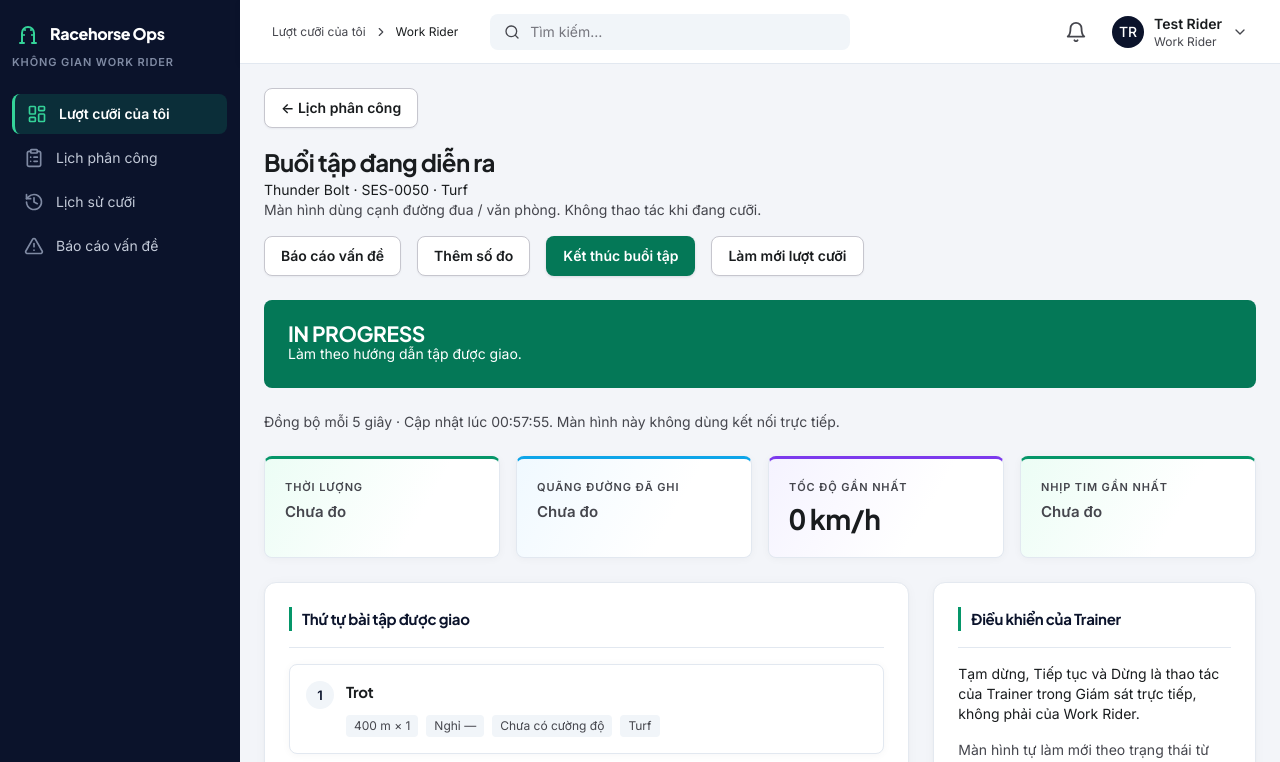
Test: records explicit issue enum/severity/description then refreshes the server interruption
Click the button "Báo cáo vấn đề" at [333, 256], box [264, 236, 401, 276]
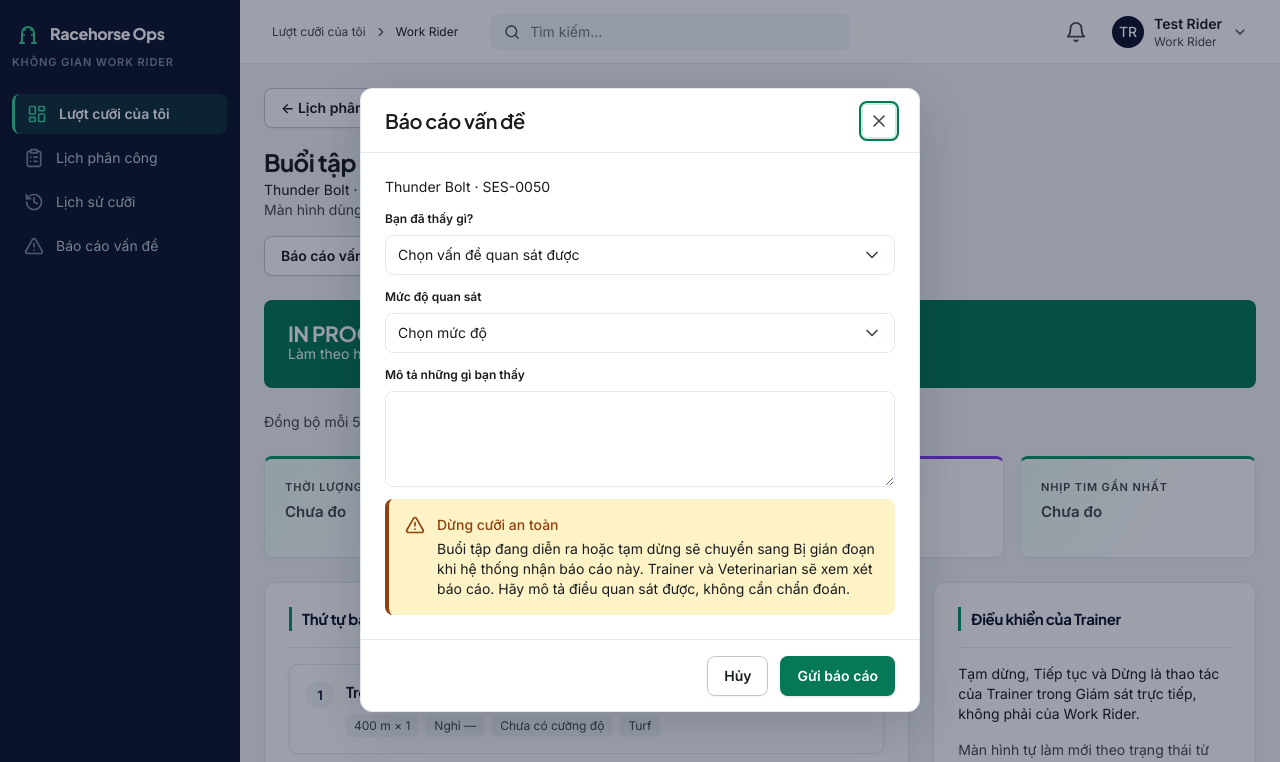
Select "Vấn đề móng hoặc chân" in the dropdown labelled "Bạn đã thấy gì?" at [640, 255], box [386, 236, 894, 274]
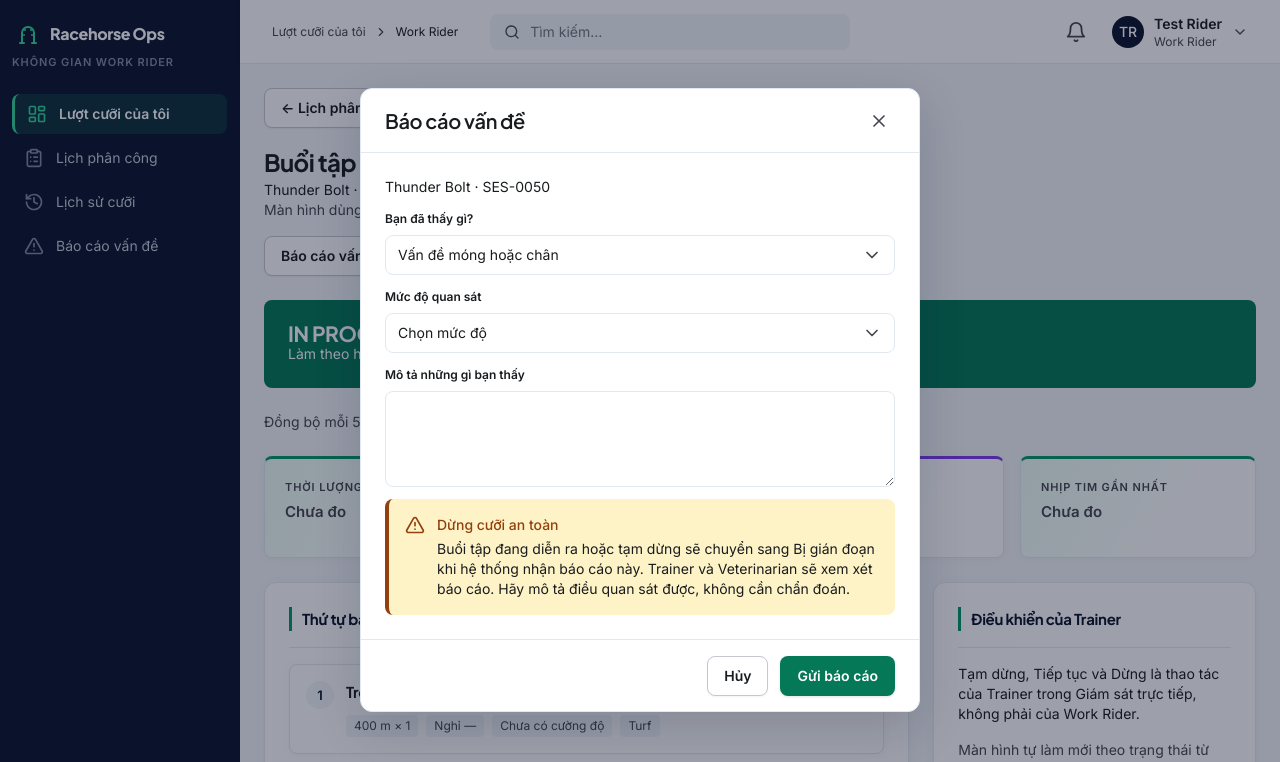
Select "Cao" in the dropdown labelled "Mức độ quan sát" at [640, 333], box [386, 314, 894, 352]
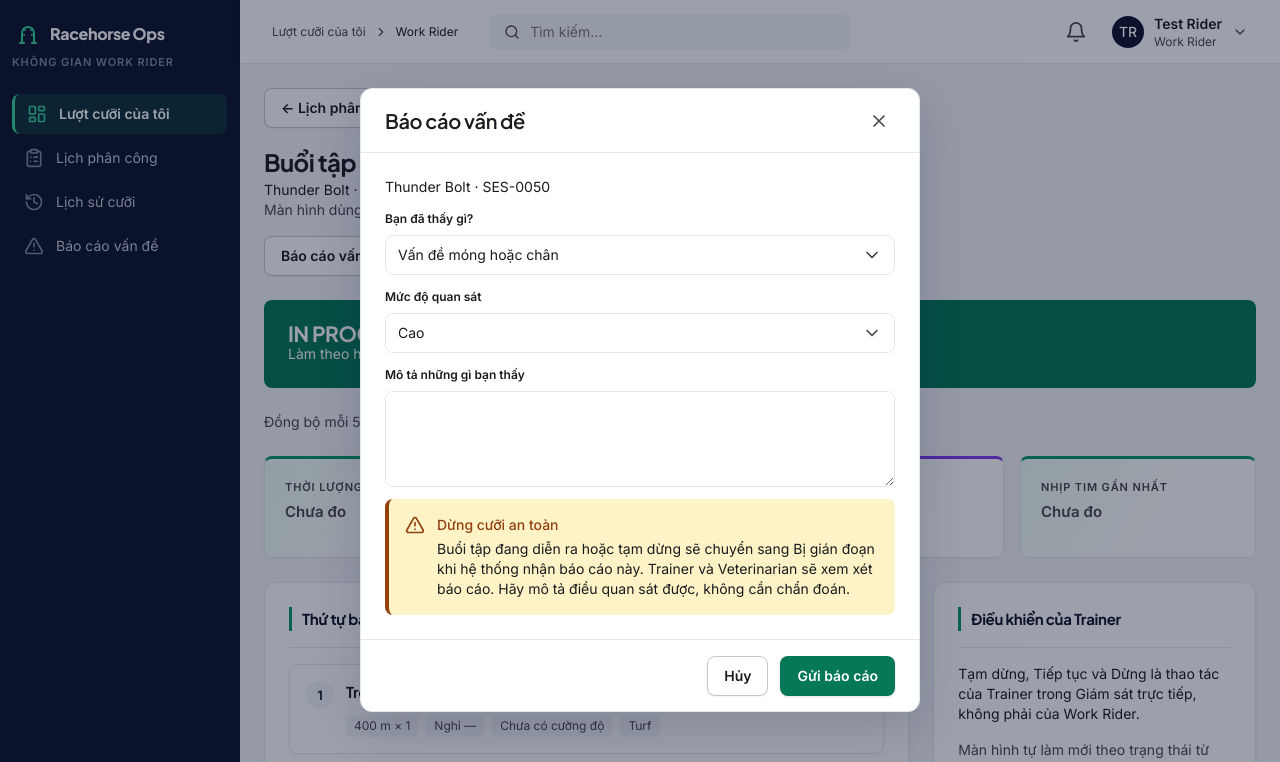
Type "Uneven gait on the left hind" into the text box labelled "Mô tả những gì bạn thấy" at [640, 439], box [385, 391, 895, 487]
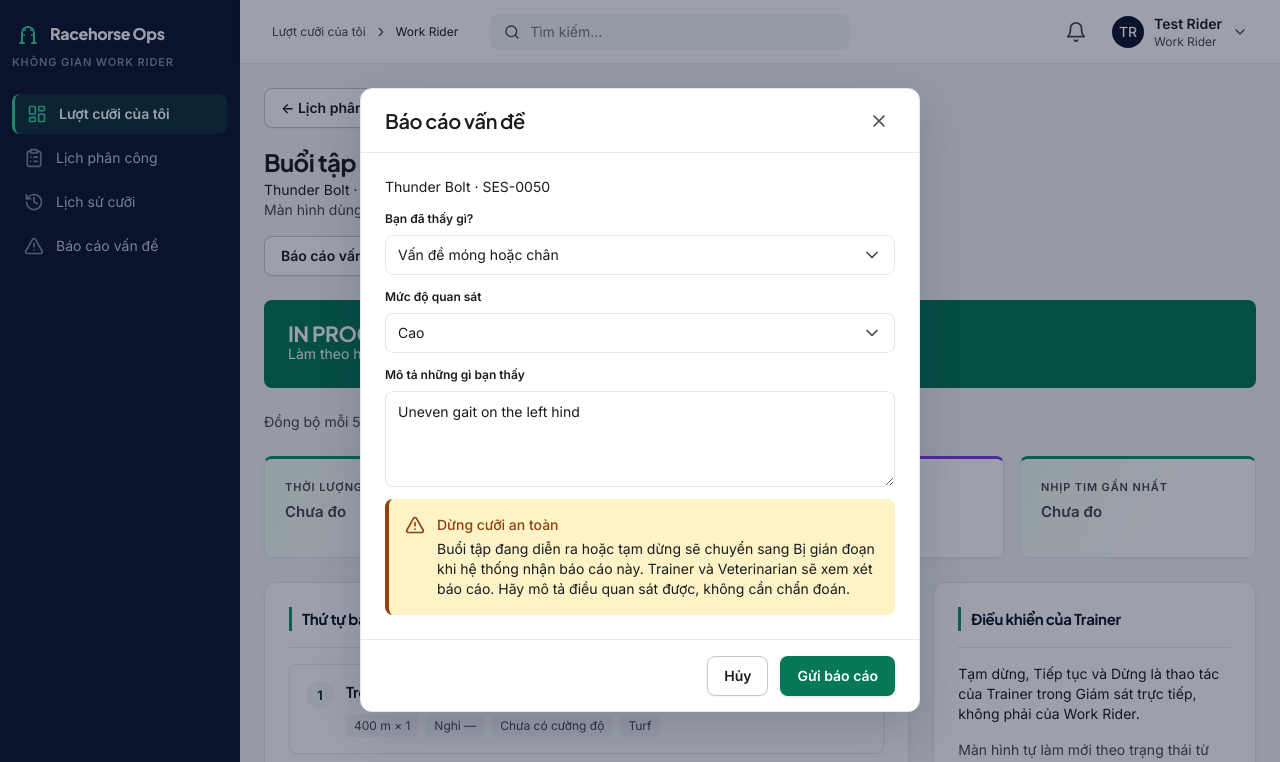
Click the button "Gửi báo cáo" at [838, 676], box [780, 656, 895, 696]
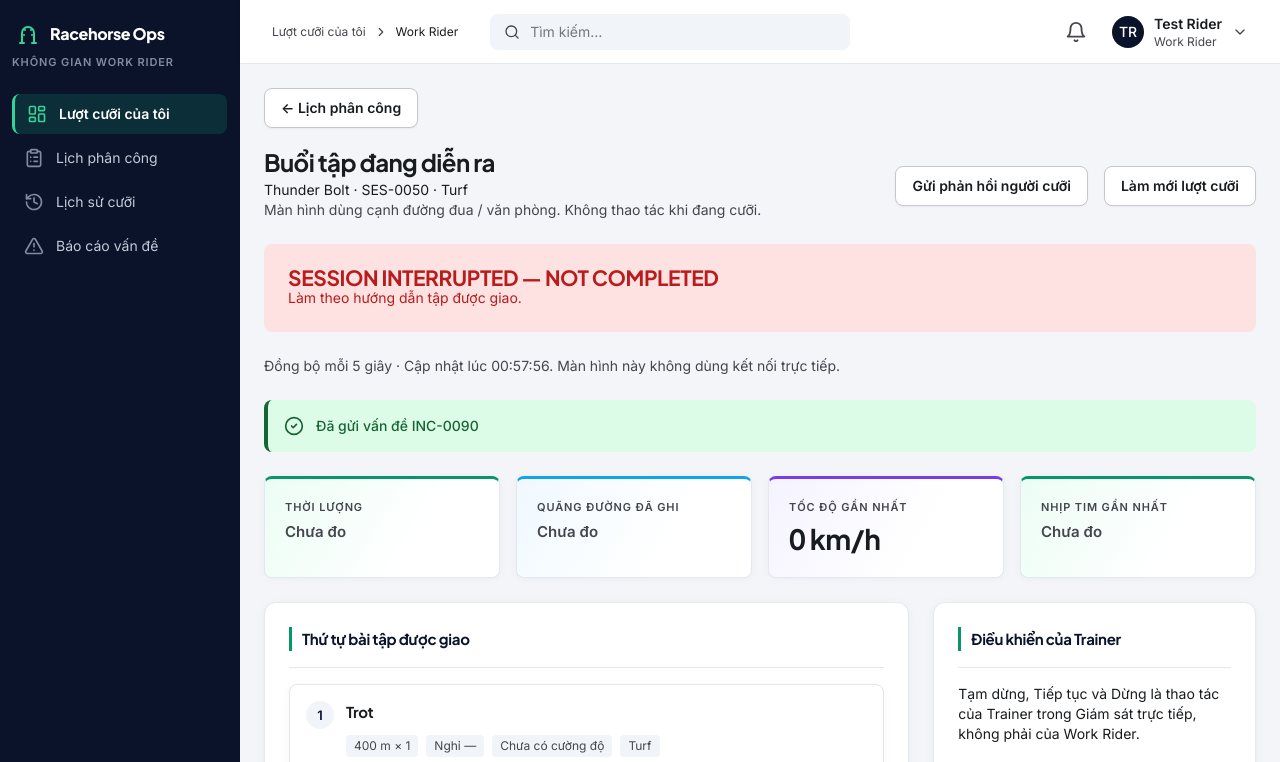
Expected: the heading "SESSION INTERRUPTED — NOT COMPLETED" is shown, [288, 268, 718, 288]
